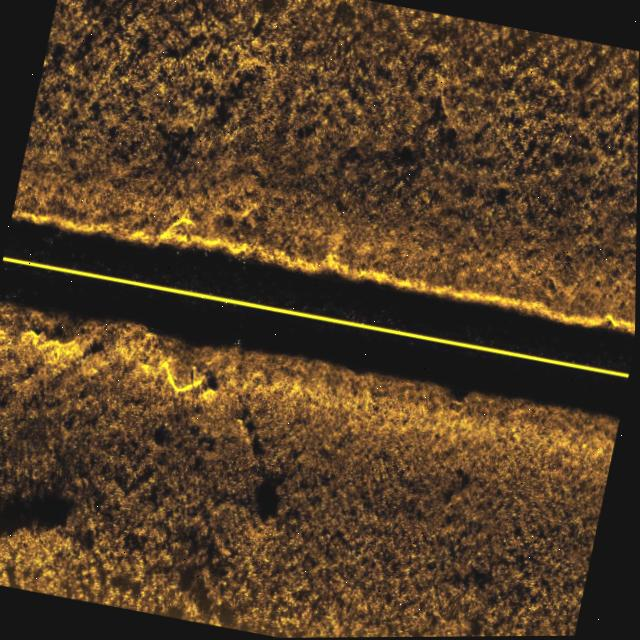mine: (186, 363, 199, 387)
